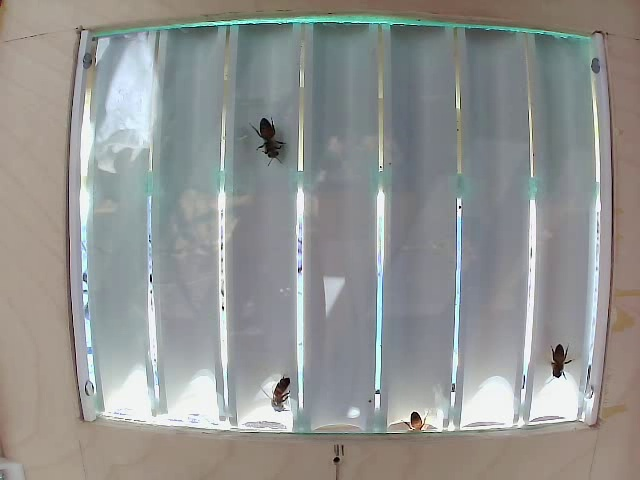bee: (244, 113, 303, 181), (259, 365, 308, 407), (533, 326, 572, 370)
